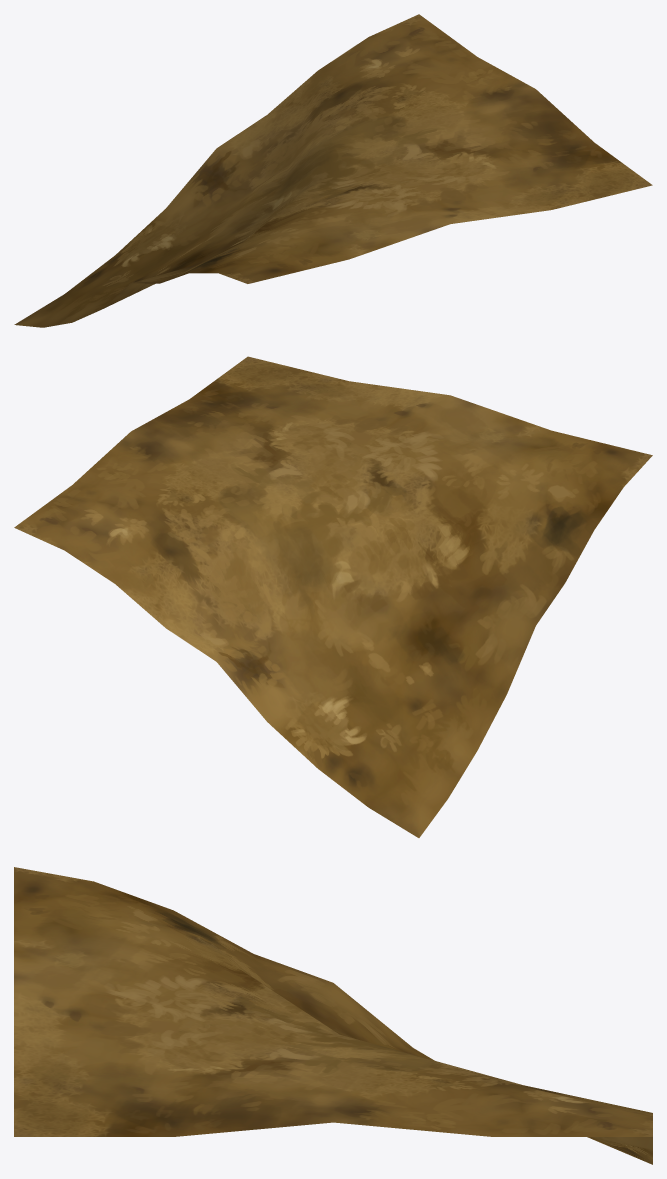
File: Slope_Incline_006.fbx
3 views of the same model, one above another, from view 1: azimuth 30°, elevation 25°; view 2: azimuth 150°, elevation 25°; view 3: azimuth 270°, elevation 25° (orthographic). The views are drawn at different scales.
Visible parts, largest first — view 1: Slope_incline_006; view 2: Slope_incline_006; view 3: Slope_incline_006.
Boxes of the visible parts, x1,y1,x2,y2 form: Slope_incline_006: (14, 14, 652, 327); Slope_incline_006: (14, 356, 652, 837); Slope_incline_006: (14, 867, 652, 1164).
Size of the model in its own units: 10 by 5.25 by 10.
Materials: 1 (1 with a texture image).
